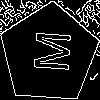M: (24, 29, 71, 73)
